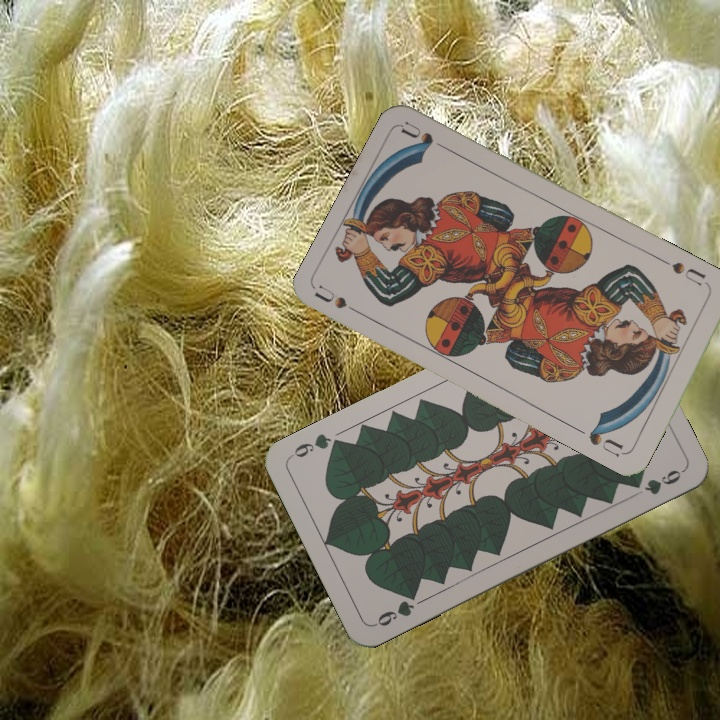G9: (370, 587, 420, 629)
SU: (312, 281, 369, 320), (668, 257, 713, 294)
